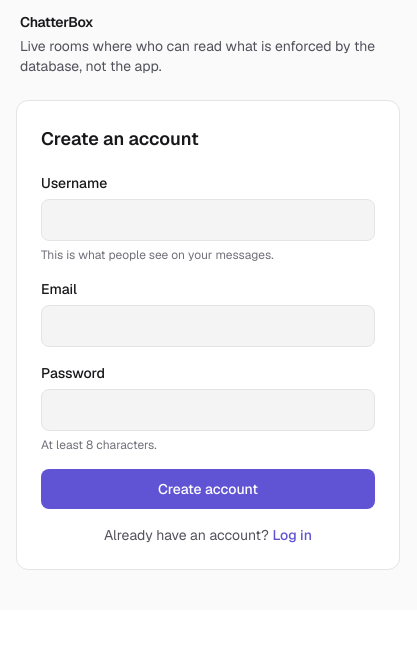
RegisterPage › shows the backend's error message on a 409 duplicate
Type "alice" into the field labelled "Username" at (208, 220), box [41,199,375,241]
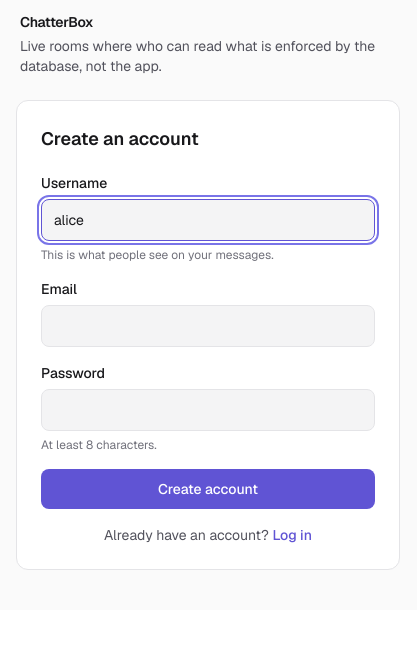
Type "alice@example.com" into the field labelled "Email" at (208, 326), box [41,305,375,347]
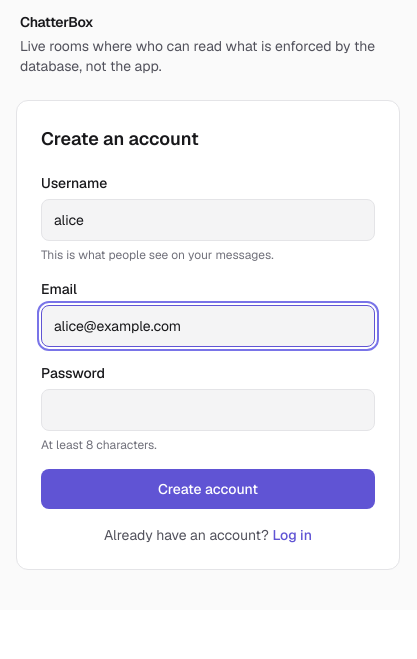
Type "correcthorsebattery" into the password field labelled "Password" at (208, 410), box [41,389,375,431]
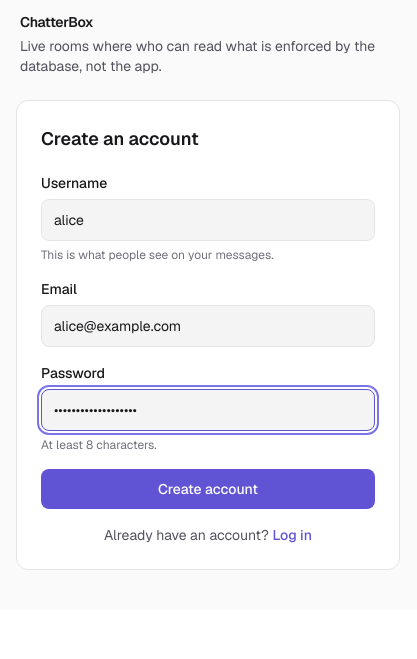
Click the button "Create account" at (208, 489), box [41,469,375,509]
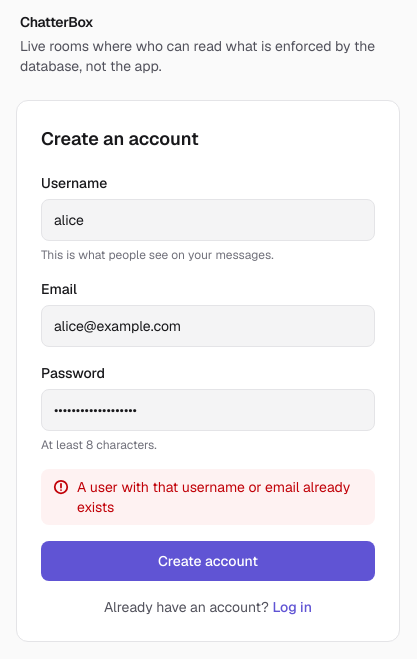
Check: the text "A user with that username or email already exists" is shown, box [77,477,363,517]
